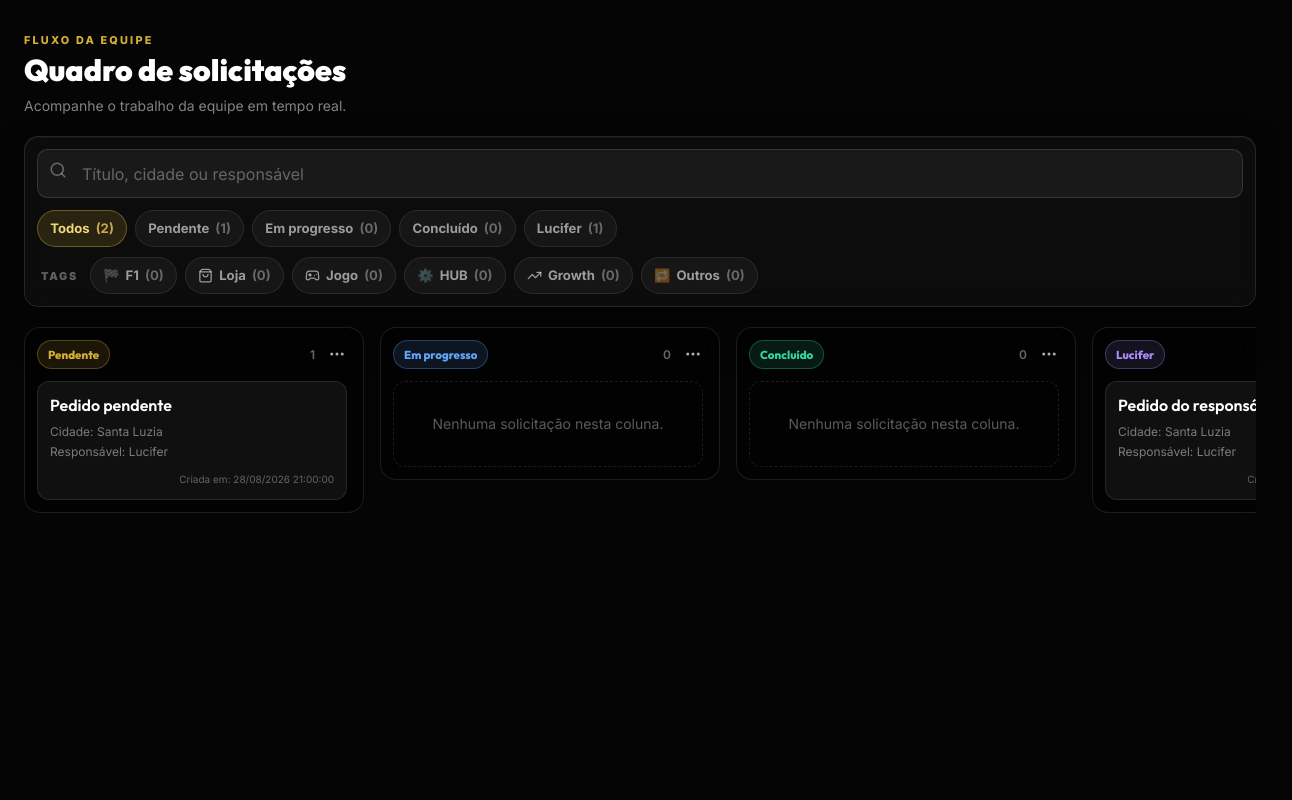
Scenario: KanbanBoard › permite abrir o menu de uma coluna de sistema, renomeá-la e movê-la sem expor exclusão
Click the button named "Abrir ações da lista Pendente" at (337, 354), box [323,340,351,368]
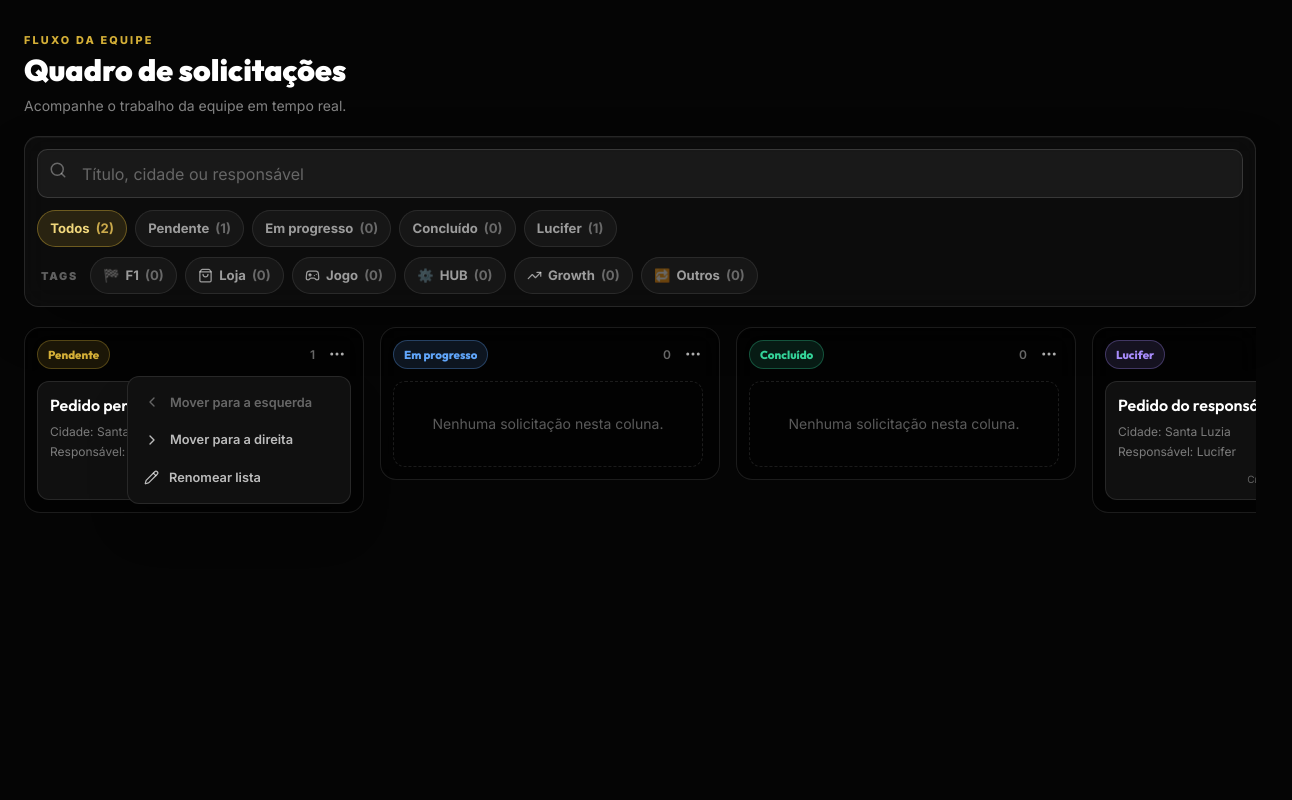
expect the button with aria-label "Mover lista Pendente para a esquerda" is disabled: met, box [134,383,344,421]
expect the button with aria-label "Mover lista Pendente para a direita" is shown: met
expect the button "Renomear lista" is shown: met, box [134,459,344,496]
Click the button with aria-label "Mover lista Pendente para a direita" at (239, 440), box [134,421,344,459]
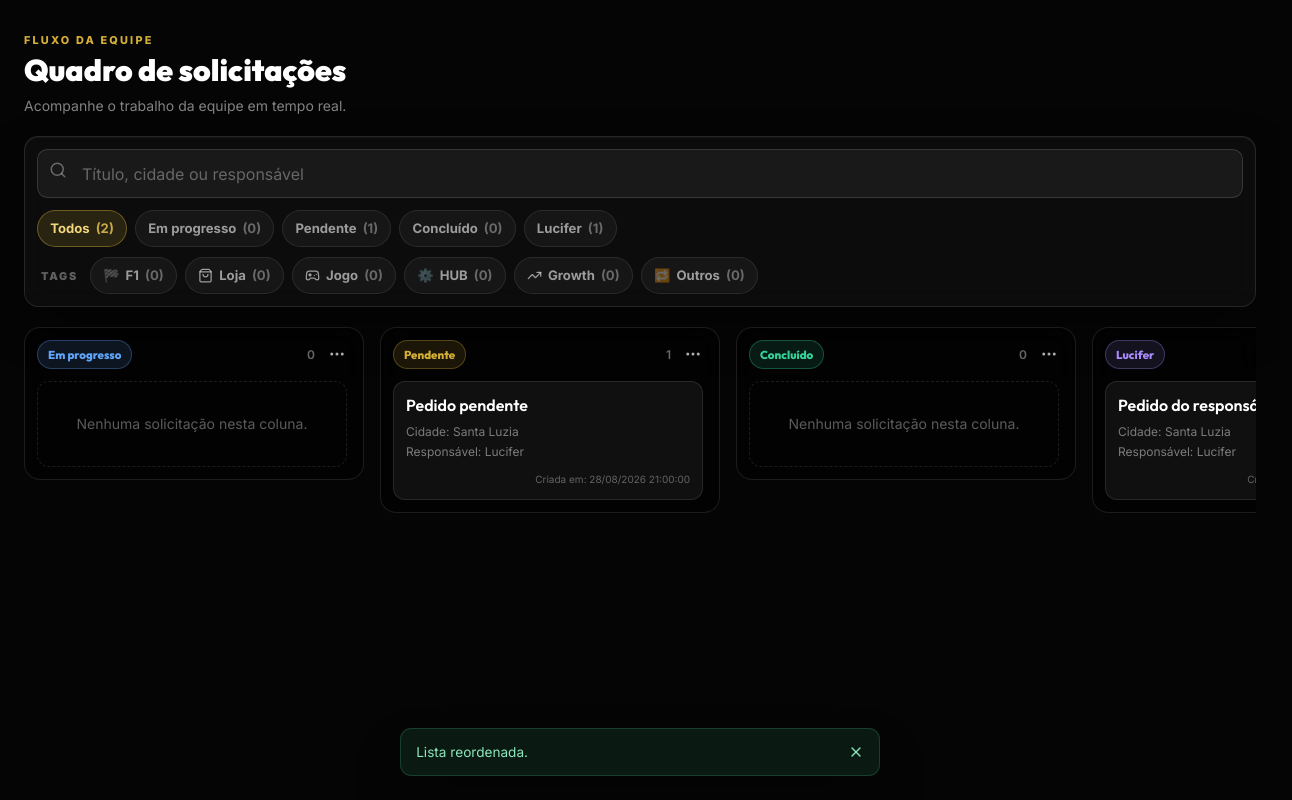
expect the headings read "Em progresso", "Pendente", "Concluído", "Lucifer", in this order: met, box [37,340,132,369]; [393,340,466,369]; [749,340,824,369]; [1105,340,1165,369]
